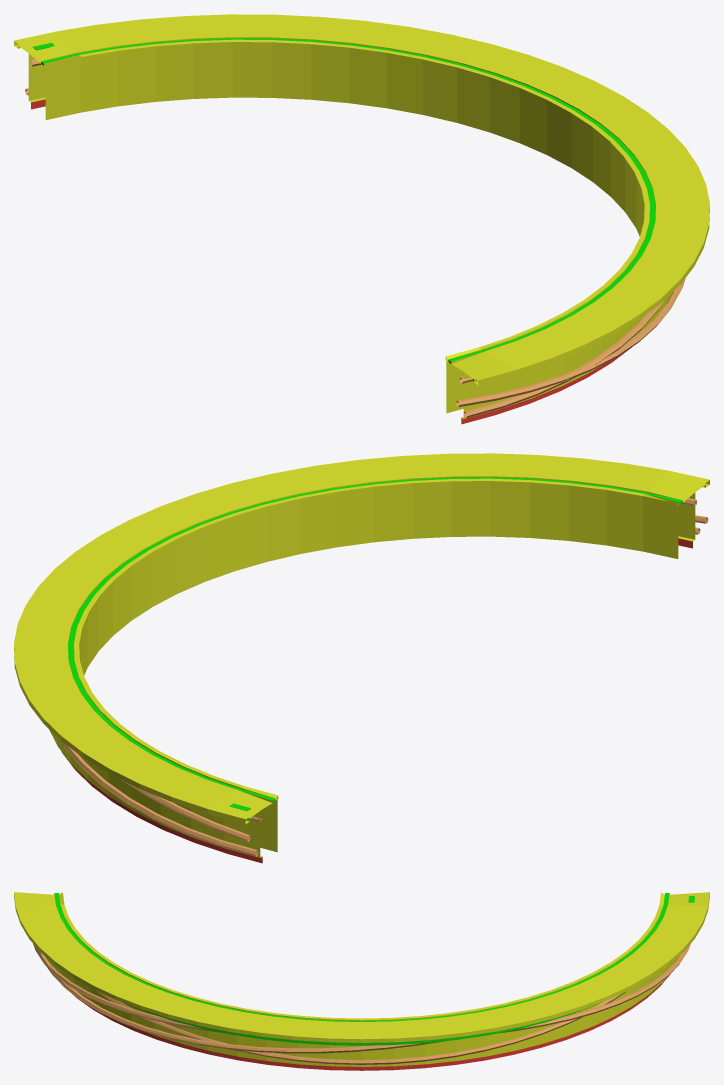
The model's file is C_Comptoir.fbx.
3 renders of one model, top to bottom at view 1: azimuth 30°, elevation 25°; view 2: azimuth 150°, elevation 25°; view 3: azimuth 270°, elevation 25°, orthographic. The views are drawn at different scales.
Parts seen in each view (by area): view 1: C_Comptoir; view 2: C_Comptoir; view 3: C_Comptoir.
Boxes of the visible parts, bbox=[...] form: C_Comptoir: bbox=[14, 14, 709, 424]; C_Comptoir: bbox=[14, 453, 709, 863]; C_Comptoir: bbox=[14, 892, 709, 1070].
Bounding box in the file's own units: 824 × 108 × 1613.
